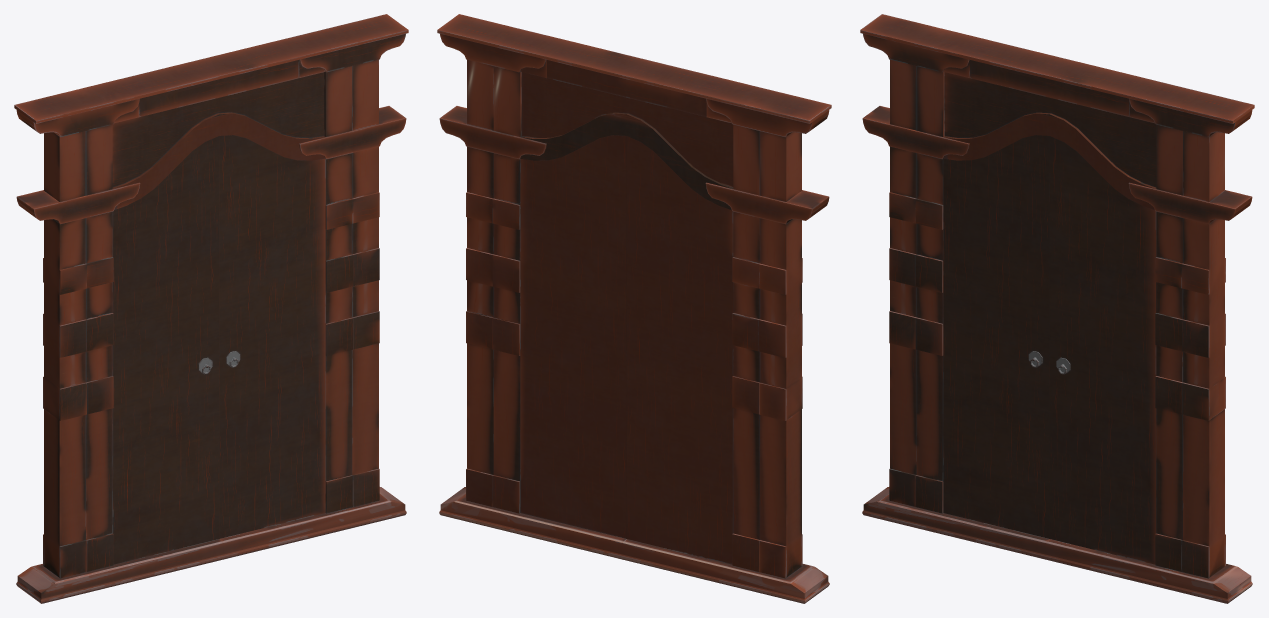
The model's file is Door_Main.fbx.
3 renders of one model, left to right at view 1: azimuth 30°, elevation 25°; view 2: azimuth 150°, elevation 25°; view 3: azimuth 330°, elevation 25°, orthographic.
Parts seen in each view (by area): view 1: Pintu.L, Pintu.R, Tiang 2, Tiang 1, Dekor Atas, Dekor 2, Pintu Bawh, Dekor 1, Dekor 3; view 2: Pintu.L, Pintu.R, Tiang 2, Tiang 1, Dekor Atas, Dekor 2, Pintu Bawh, Dekor 1, Dekor 3; view 3: Pintu.R, Pintu.L, Tiang 2, Tiang 1, Dekor Atas, Dekor 2, Pintu Bawh, Dekor 1, Dekor 3.
Boxes of the visible parts, box(x1,y1,x2,y2) form: Pintu.L: box(112, 136, 219, 564); Pintu.R: box(219, 135, 325, 538); Tiang 2: box(43, 59, 379, 578); Tiang 1: box(86, 66, 353, 571); Dekor Atas: box(14, 14, 408, 137); Dekor 2: box(112, 72, 324, 187); Pintu Bawh: box(16, 487, 406, 603); Dekor 1: box(16, 106, 406, 224); Dekor 3: box(112, 112, 325, 209); Pintu.L: box(626, 136, 733, 564); Pintu.R: box(520, 135, 626, 538); Tiang 2: box(466, 59, 802, 578); Tiang 1: box(492, 66, 759, 571); Dekor Atas: box(437, 14, 831, 137); Dekor 2: box(521, 72, 733, 187); Pintu Bawh: box(439, 487, 829, 603); Dekor 1: box(439, 106, 829, 224); Dekor 3: box(520, 112, 733, 209); Pintu.R: box(1049, 136, 1156, 564); Pintu.L: box(943, 135, 1049, 538); Tiang 2: box(889, 59, 1225, 578); Tiang 1: box(915, 66, 1182, 571); Dekor Atas: box(860, 14, 1254, 137); Dekor 2: box(944, 72, 1156, 187); Pintu Bawh: box(862, 487, 1252, 603); Dekor 1: box(862, 106, 1252, 224); Dekor 3: box(943, 112, 1156, 209).
Bounding box in the file's own units: 2.5 × 0.2859 × 3.1.
11 materials, 11 textured.
